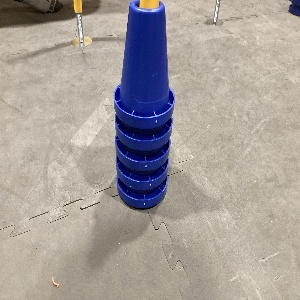Blue_5: (113, 1, 174, 210)
